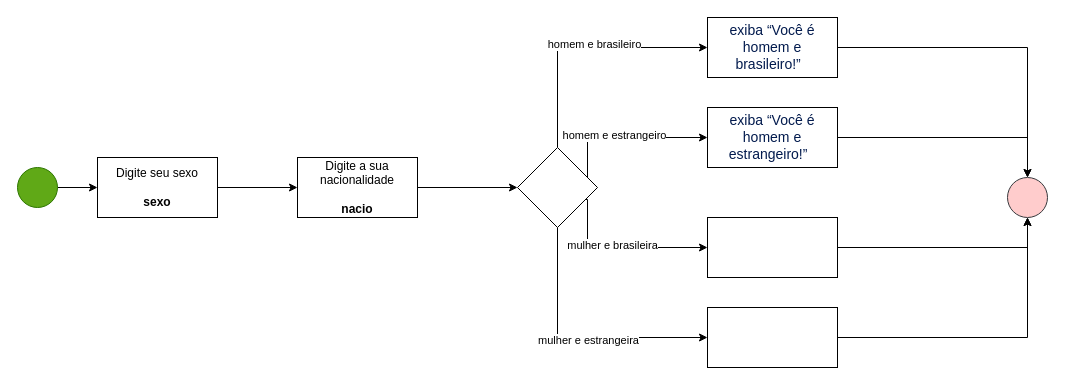
This 1065x385 diagram has some shape labels left out. The centre of each missing label's shape, as x and y in pixels:
"exiba “Você é mulher e brasileira!”" goes at (x=772, y=247).
"exiba “Você é mulher e estrangeira!”" goes at (x=772, y=337).
